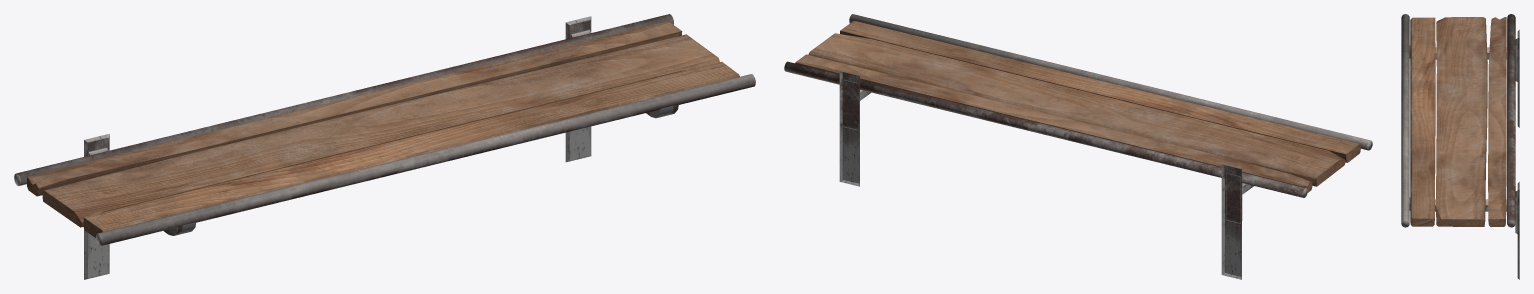
File: Mesh_PlankShelf.fbx
3 renders of one model, left to right at view 1: azimuth 30°, elevation 25°; view 2: azimuth 150°, elevation 25°; view 3: azimuth 270°, elevation 25°, orthographic. The views are drawn at different scales.
Visible parts, largest first — view 1: Mesh_PlankShelf_LOD0; view 2: Mesh_PlankShelf_LOD0; view 3: Mesh_PlankShelf_LOD0.
Part boxes in pixels (left/top/right/bottom): Mesh_PlankShelf_LOD0: left=14, top=14, right=755, bottom=279; Mesh_PlankShelf_LOD0: left=784, top=14, right=1372, bottom=279; Mesh_PlankShelf_LOD0: left=1401, top=14, right=1519, bottom=279.
Size of what is drawn, in the model's own units: 1.65 by 0.3386 by 0.4013.
